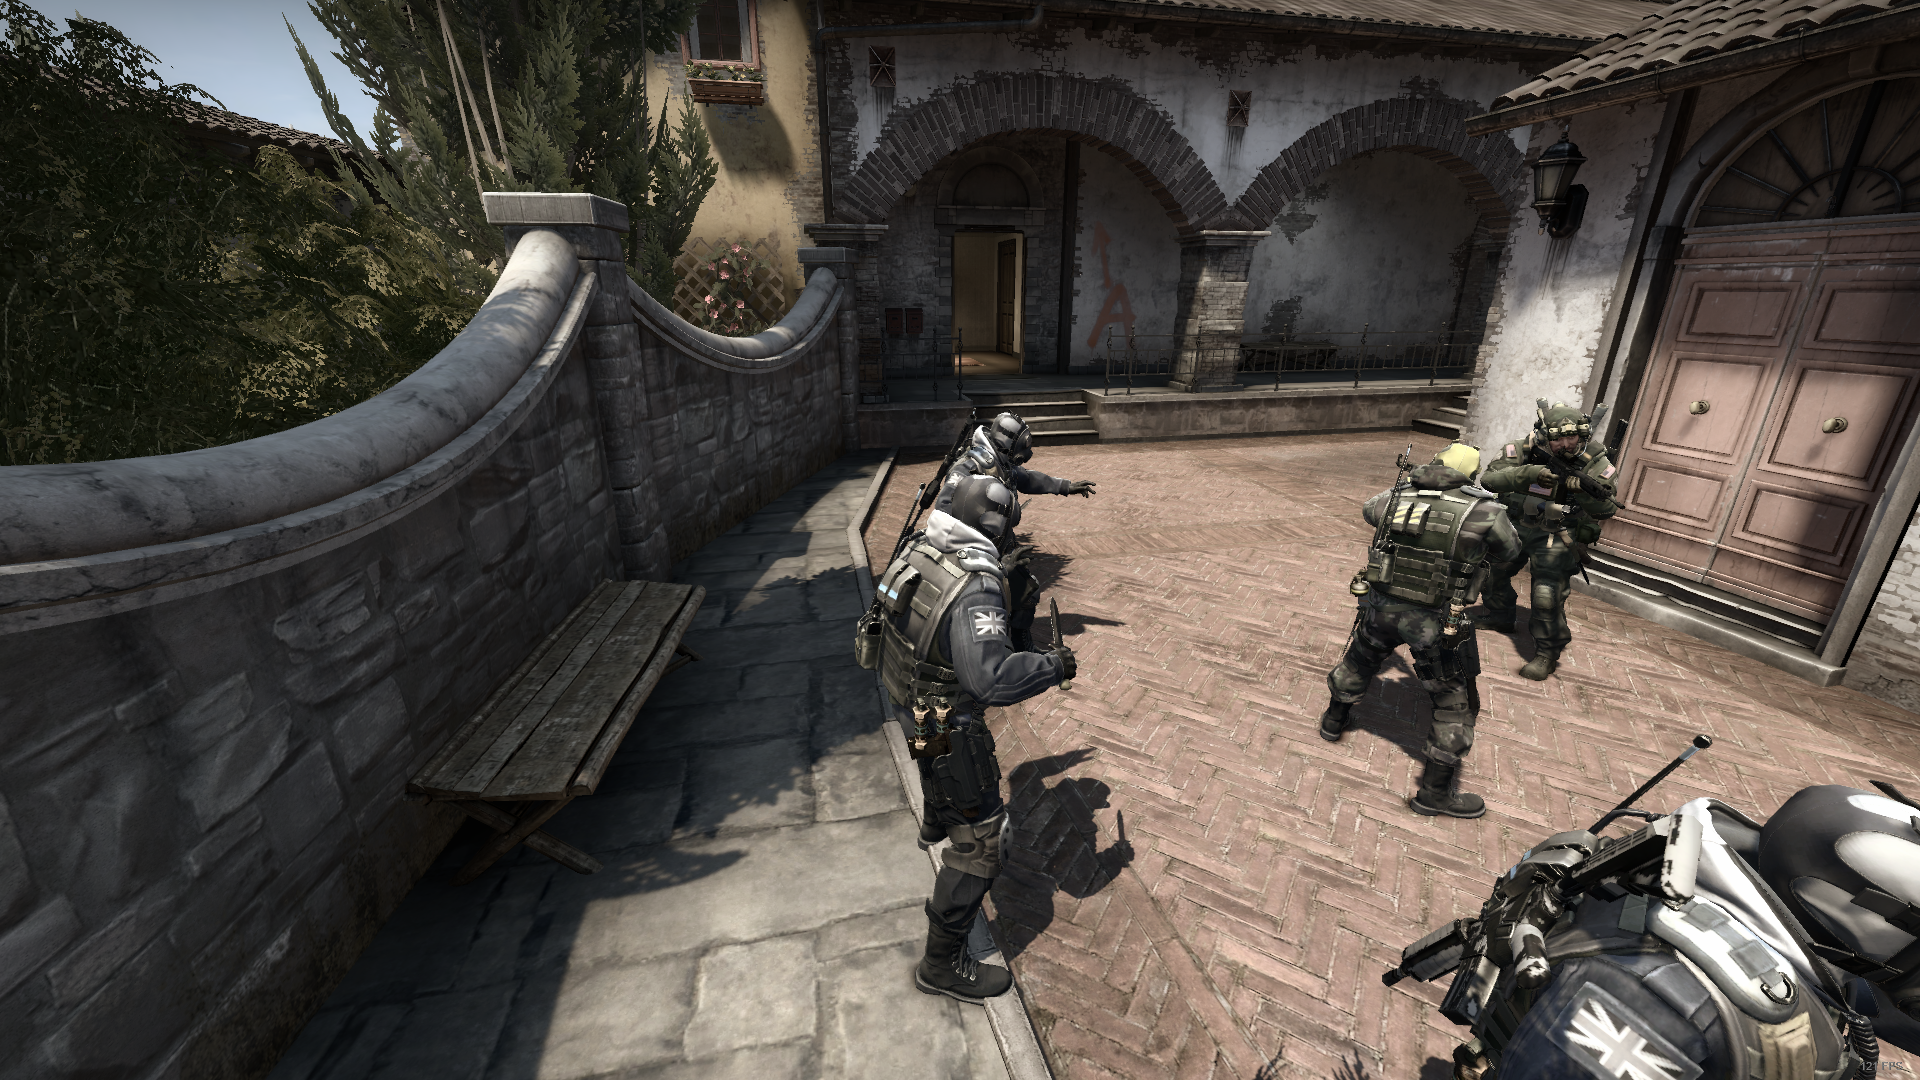ct: (1408, 771, 1920, 1080), (856, 473, 1089, 1011)
